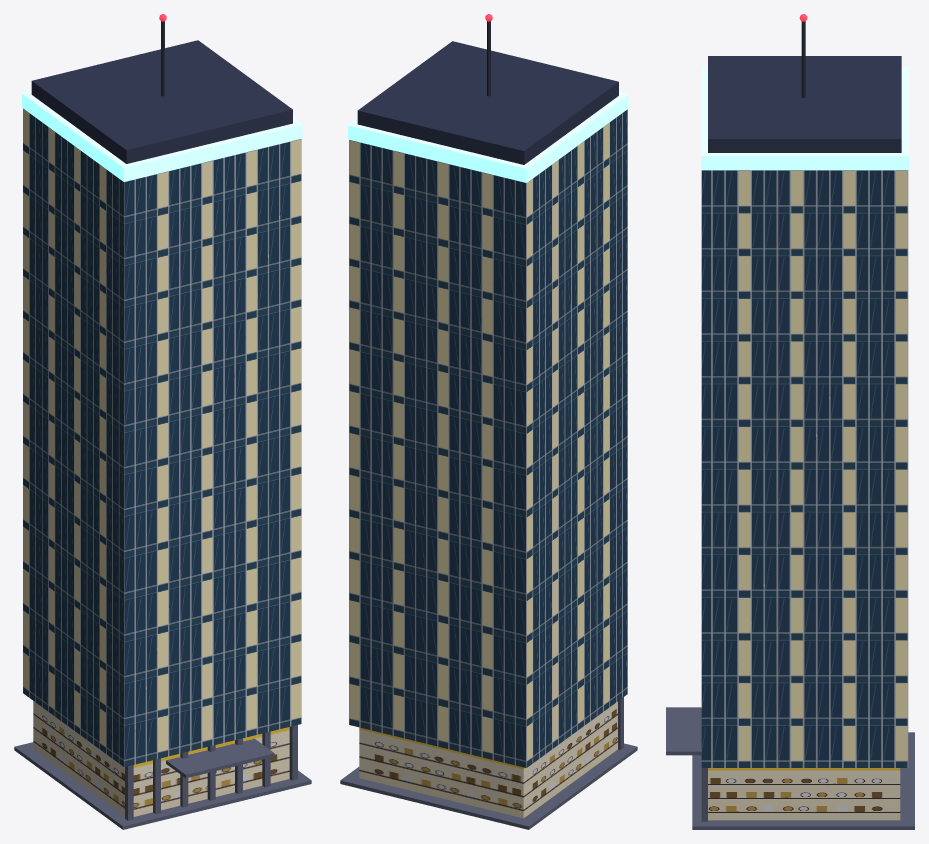
Rendered from glass_tower.glb.
The picture shows the model from 3 angles, left to right: view 1: azimuth 30°, elevation 25°; view 2: azimuth 150°, elevation 25°; view 3: azimuth 270°, elevation 25°; orthographic projection. The views are drawn at different scales.
Visible parts, largest first — view 1: glass_tower; view 2: glass_tower; view 3: glass_tower.
Boxes of the visible parts, box(x1,y1,x2,y2) form: glass_tower: box(14, 14, 311, 829); glass_tower: box(340, 14, 637, 829); glass_tower: box(666, 14, 914, 829).
Bounding box in the file's own units: 17 × 64.8 × 19.
9 materials, 3 textured.
